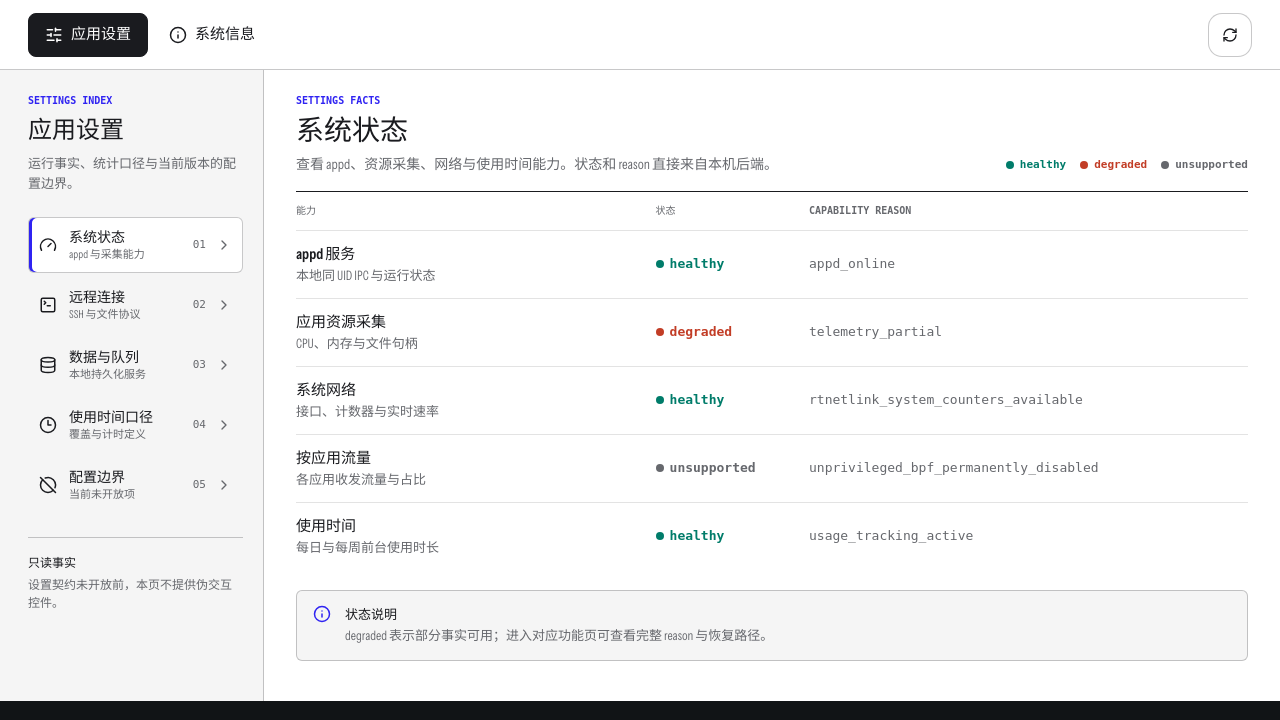
it: SettingsView › renders a usage failure as a degraded fact row with its reason
Step 1. Click the tab "使用时间口径 覆盖与计时定义 04" → (136,425), box [28,397,243,453]
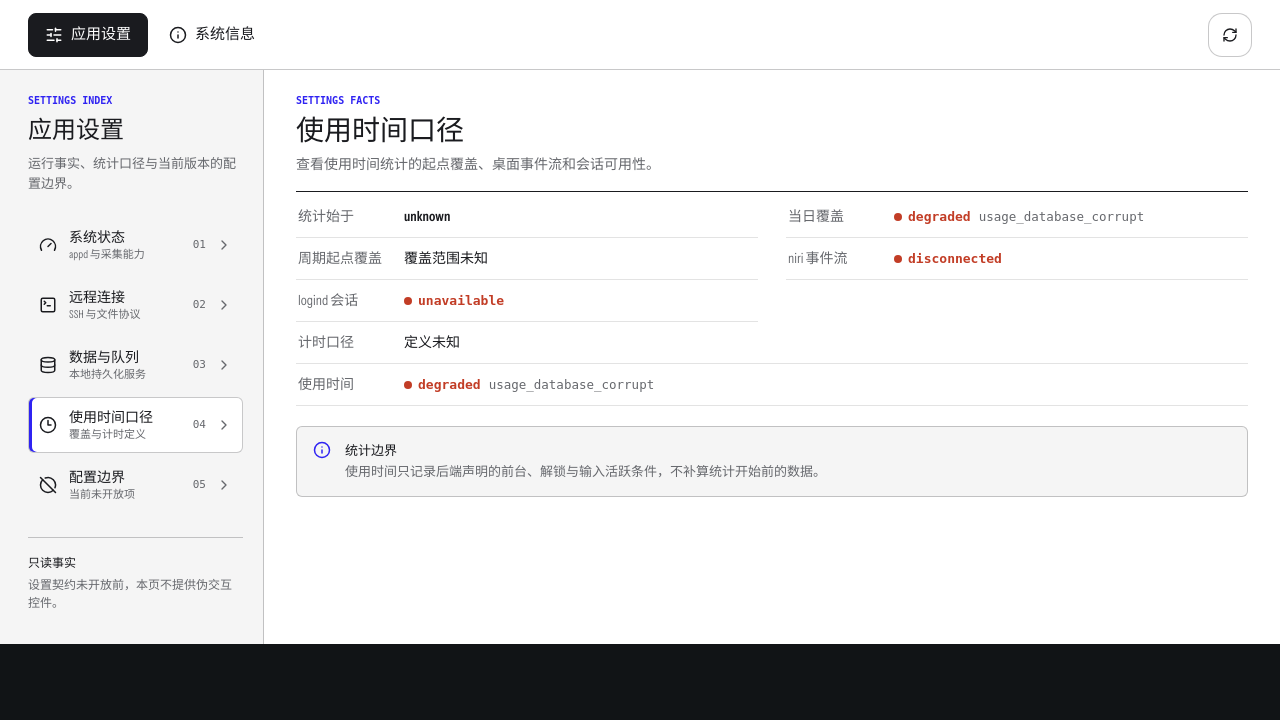
Expected: the text "使用时间" is shown, [69,408,153,426]
Expected: the text "usage_database_corrupt" is shown, [979,209,1144,224]
